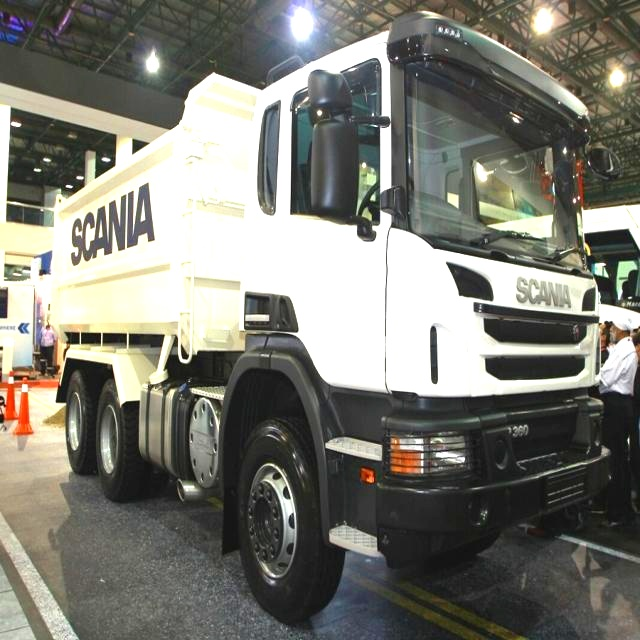truck: (34, 12, 619, 628)
